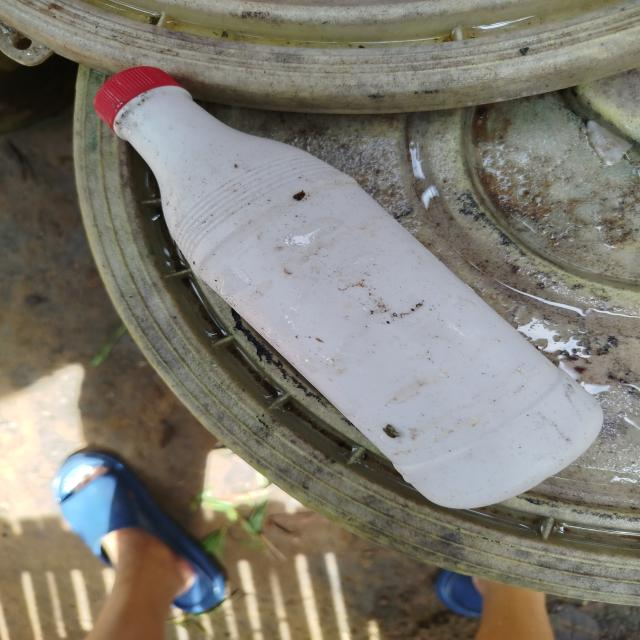plastic: (57, 50, 640, 521)
